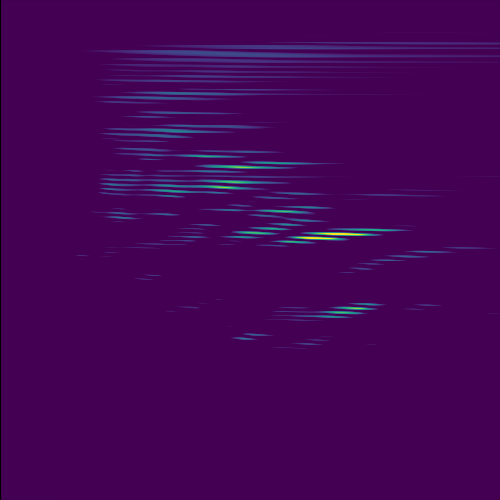semblance: (279, 219, 404, 251), (189, 159, 286, 198)
